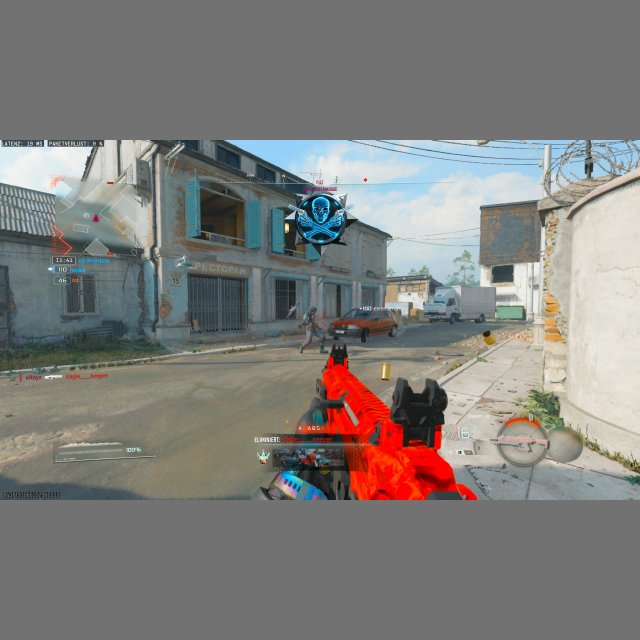head: (308, 305, 316, 314)
player: (299, 304, 327, 354)
